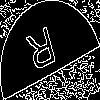R: (25, 25, 60, 82)
